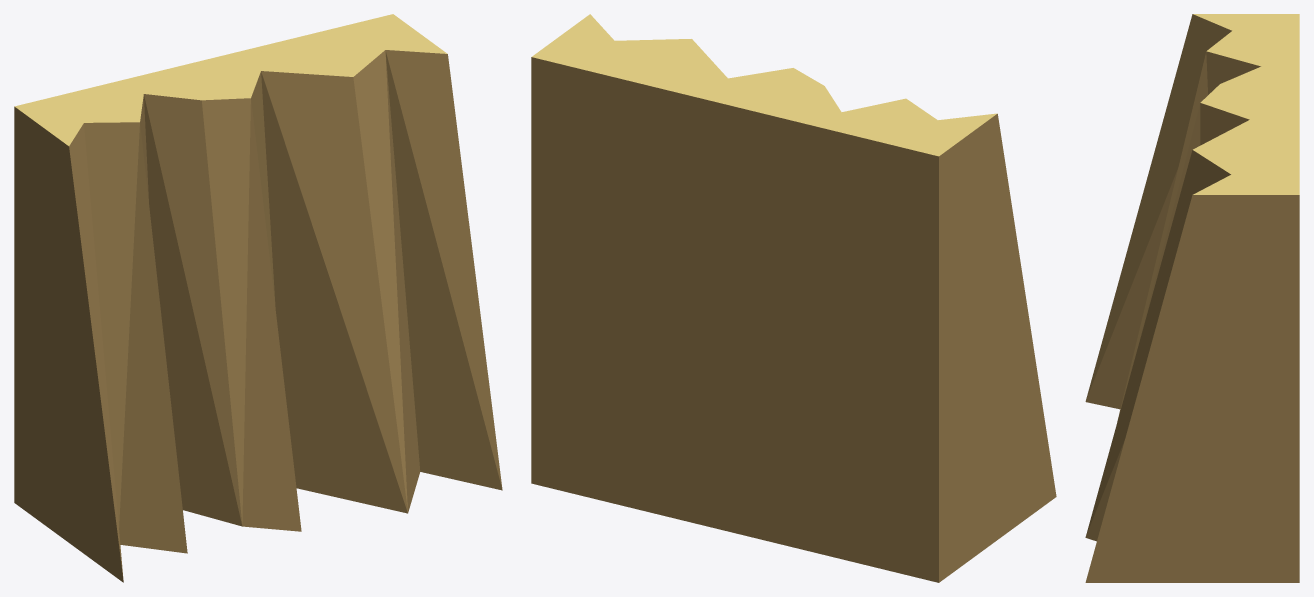
The model's file is Terrain_Tile_Sand_Cliff_Face_Angled_01.fbx.
3 renders of one model, left to right at view 1: azimuth 30°, elevation 25°; view 2: azimuth 150°, elevation 25°; view 3: azimuth 270°, elevation 25°, orthographic. The views are drawn at different scales.
Parts seen in each view (by area): view 1: Terrain_Tile_Sand_Cliff_Face_Angled_01; view 2: Terrain_Tile_Sand_Cliff_Face_Angled_01; view 3: Terrain_Tile_Sand_Cliff_Face_Angled_01.
Boxes of the visible parts, left/top/right/bottom form: Terrain_Tile_Sand_Cliff_Face_Angled_01: left=14, top=14, right=502, bottom=582; Terrain_Tile_Sand_Cliff_Face_Angled_01: left=531, top=14, right=1056, bottom=582; Terrain_Tile_Sand_Cliff_Face_Angled_01: left=1085, top=14, right=1299, bottom=582.
Size of the model in its own units: 126 by 126 by 62.99.
